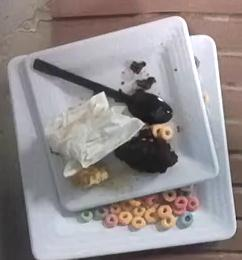cereal: (78, 187, 200, 231)
dessert: (114, 128, 178, 173)
